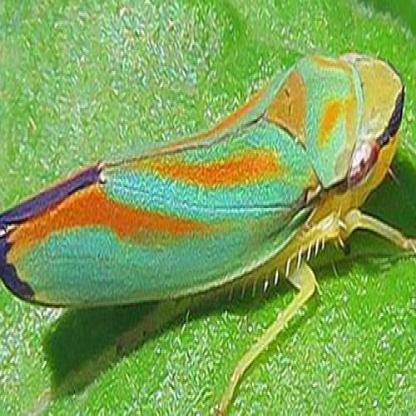green-leafhopper: (0, 47, 414, 416)
